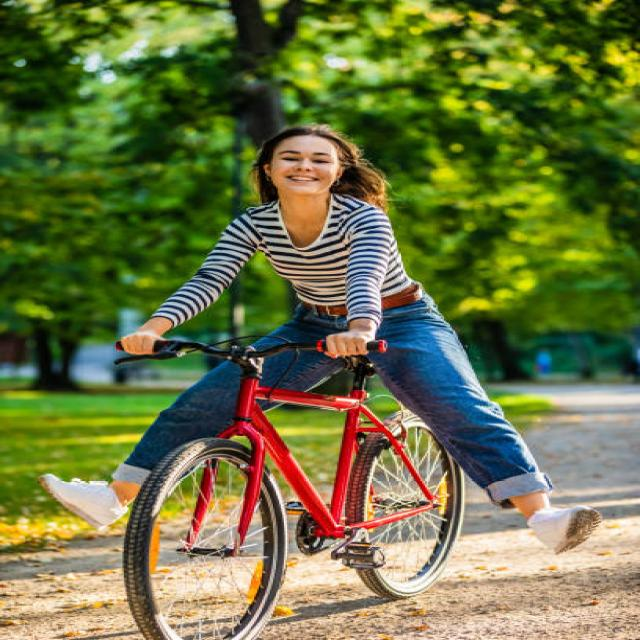bicycle: (39, 125, 600, 639)
